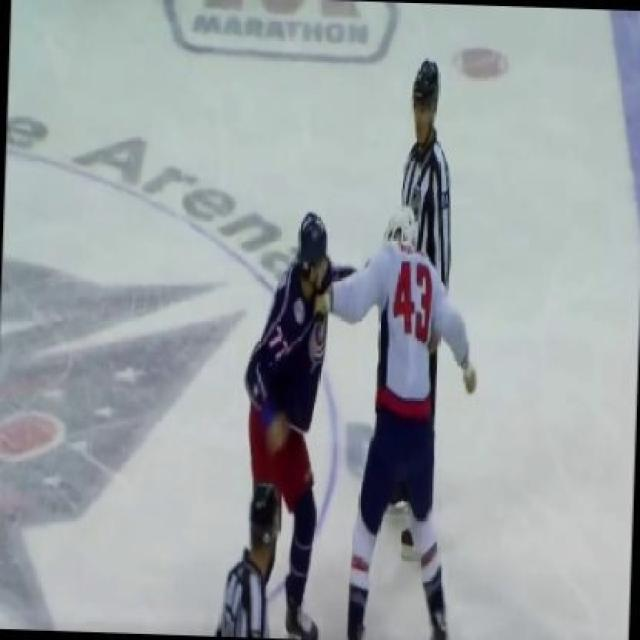fight: (230, 197, 488, 638)
non-fight: (393, 56, 460, 562)
